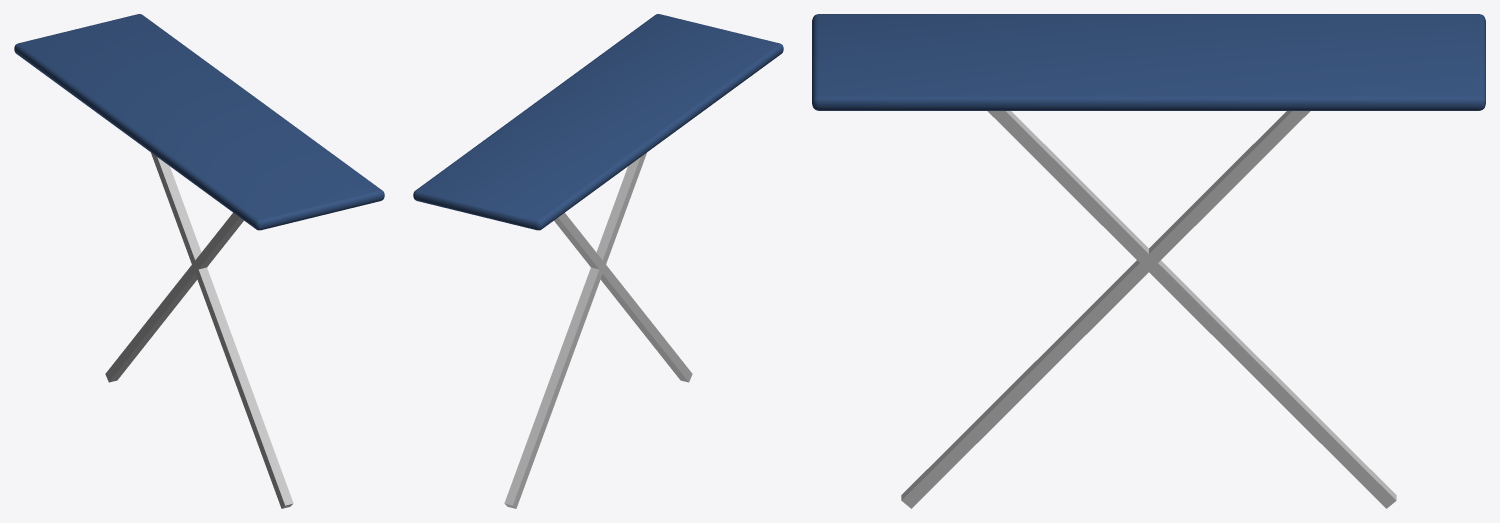
The model's file is furniture.home.ironing_board.glb.
3 views of the same model, side by side, from view 1: azimuth 30°, elevation 25°; view 2: azimuth 150°, elevation 25°; view 3: azimuth 270°, elevation 25° (orthographic). The views are drawn at different scales.
Visible parts, largest first — view 1: main__fabric_blue, main__steel_stainless; view 2: main__fabric_blue, main__steel_stainless; view 3: main__fabric_blue, main__steel_stainless.
Boxes of the visible parts, x1=… form: main__fabric_blue: x1=14, y1=14, x2=384, y2=230; main__steel_stainless: x1=105, y1=152, x2=293, y2=508; main__fabric_blue: x1=413, y1=14, x2=783, y2=230; main__steel_stainless: x1=504, y1=152, x2=692, y2=508; main__fabric_blue: x1=812, y1=14, x2=1485, y2=110; main__steel_stainless: x1=901, y1=111, x2=1396, y2=508.
Size of the model in its own units: 0.38 by 0.9234 by 1.25.
